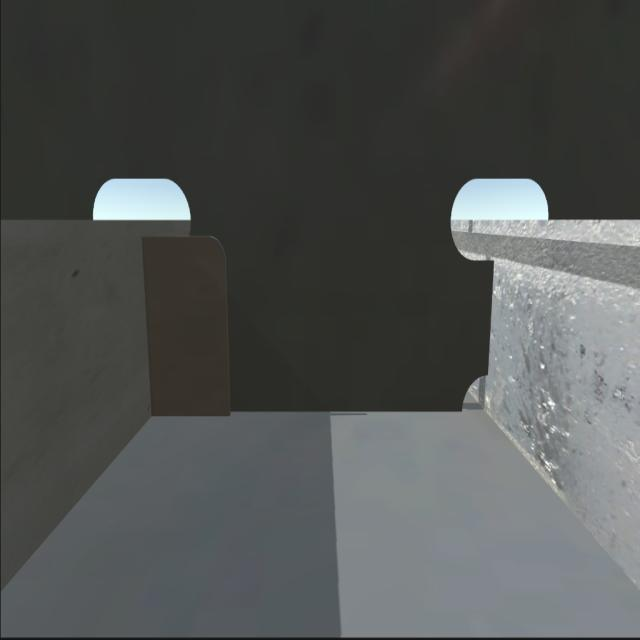fillet_hole: (459, 372, 493, 411)
fillet_yong_jeop_jang: (147, 400, 463, 423)
longi_yong_jeop_jang: (139, 239, 161, 418), (482, 256, 497, 382)
plate_CP05: (143, 237, 235, 416)
